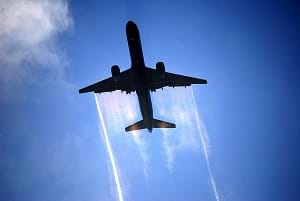plane: (78, 20, 207, 132)
